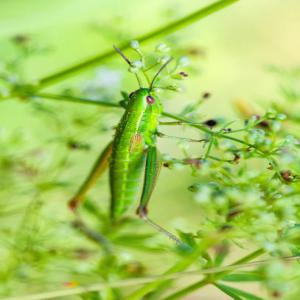locust: (59, 30, 215, 225)
